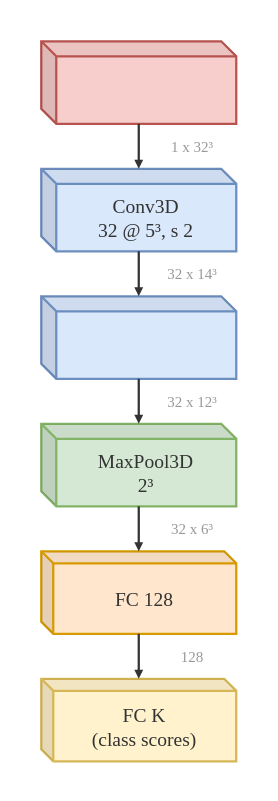
The diagram is 278 pixels wide and 801 high, and some of its shapes have lost their labels. Here are the shapes that lost their labels. From the top down, the centre of each, then its label:
At (x=138, y=81): "Occupancy Grid 32 x 32 x 32".
At (x=138, y=336): "Conv3D 32 @ 3³".
